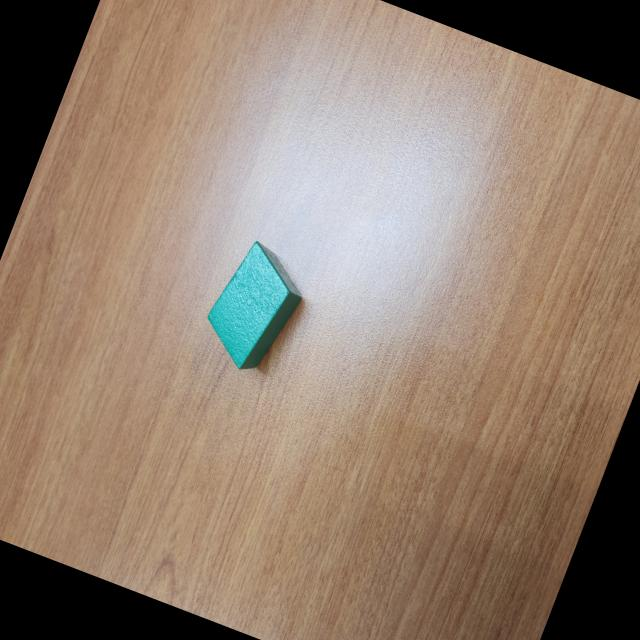green: (192, 234, 318, 383)
